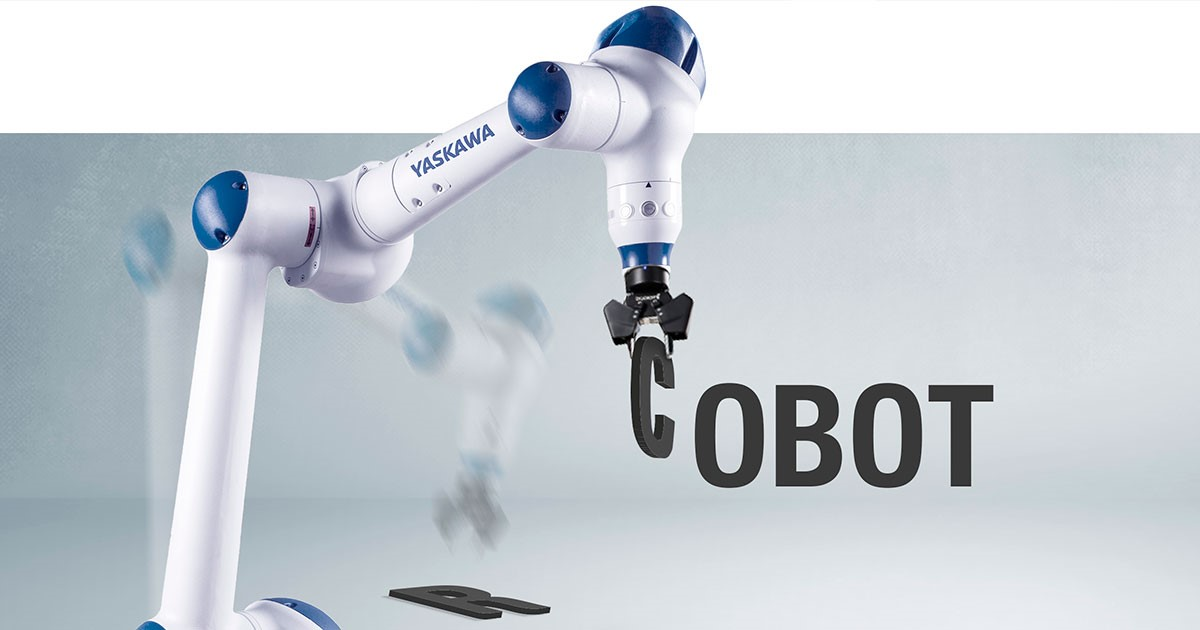robot: (139, 1, 708, 629)
